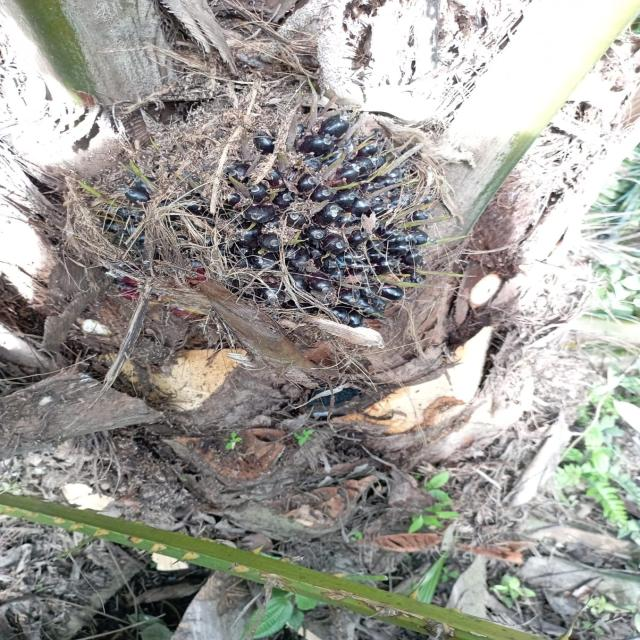fraksi 00: (68, 55, 486, 349)
